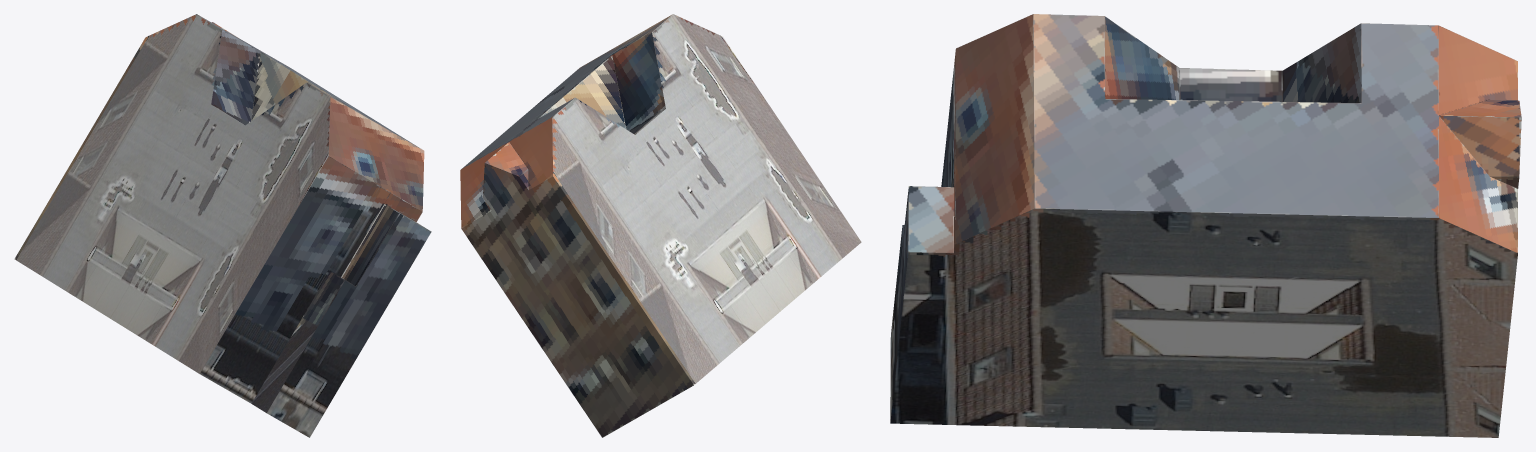
3 views of the same model, side by side, from view 1: azimuth 30°, elevation 25°; view 2: azimuth 150°, elevation 25°; view 3: azimuth 270°, elevation 25° (orthographic). The views are drawn at different scales.
Parts seen in each view (by area): view 1: BAG_0599100000670796 (×5); view 2: BAG_0599100000670796 (×5); view 3: BAG_0599100000670796 (×5).
Part boxes in pixels (left/top/right/bottom): BAG_0599100000670796 (×5): left=14, top=14, right=431, bottom=437; BAG_0599100000670796 (×5): left=460, top=14, right=861, bottom=437; BAG_0599100000670796 (×5): left=890, top=14, right=1521, bottom=437.
Size of the model in its own units: 12.85 by 14.25 by 16.92.
Materials: 1 (1 with a texture image).
